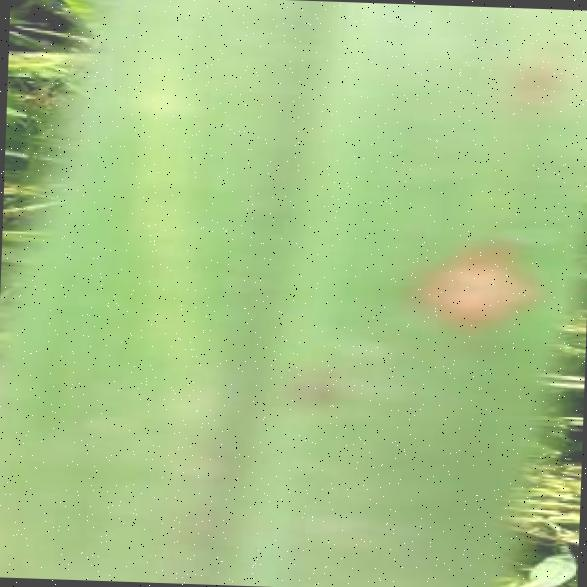Leaf_smut: (394, 219, 570, 354)
